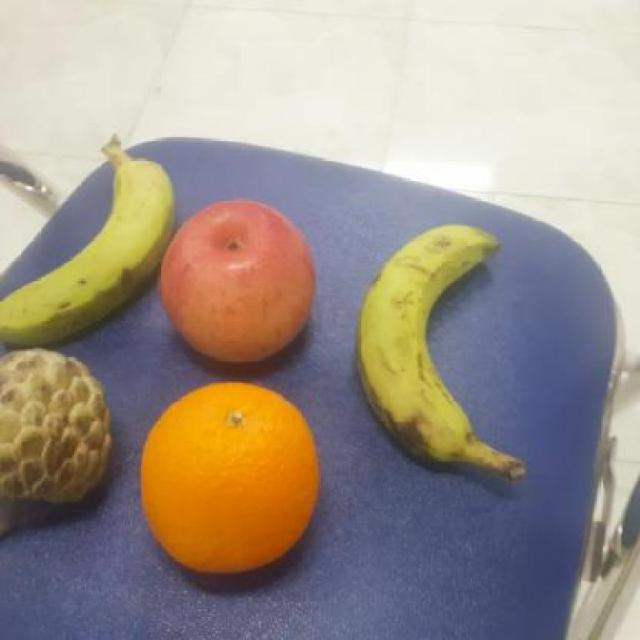apple: (157, 194, 320, 368)
banana: (355, 208, 507, 464), (1, 156, 181, 347)
oren: (137, 376, 321, 576)
sugar apple: (1, 345, 121, 512)
